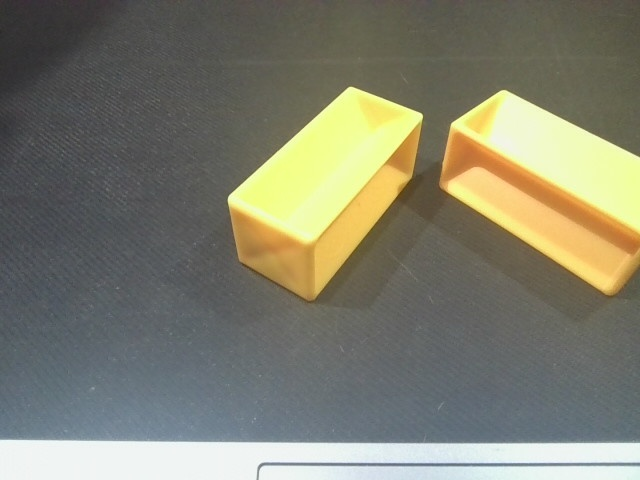YellowSample: (435, 85, 640, 301), (224, 82, 425, 300)
